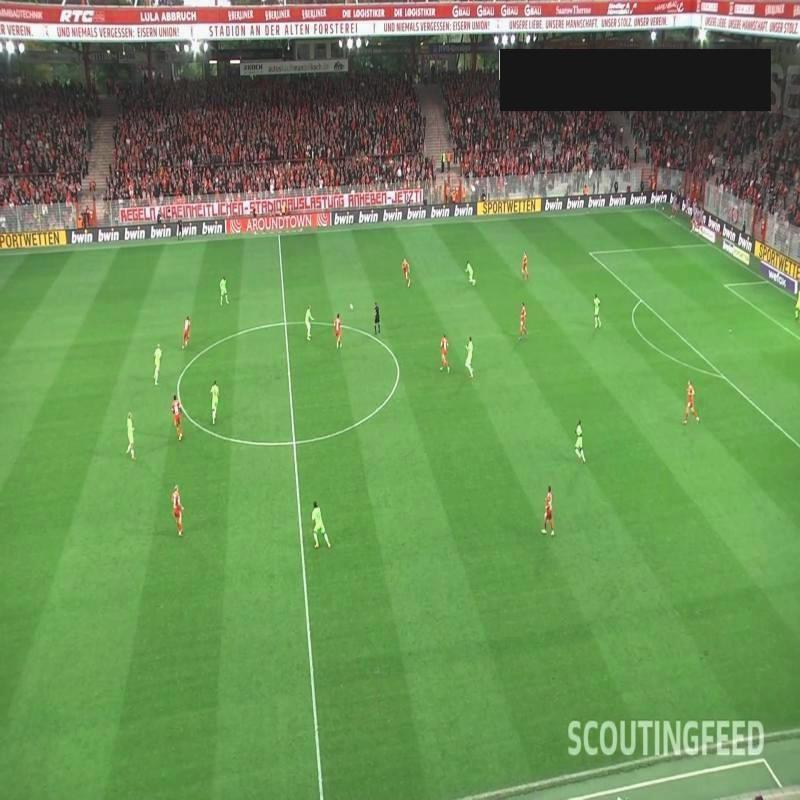1: (648, 204, 662, 217)
10: (634, 290, 649, 310)
11: (716, 368, 732, 388)
13: (272, 226, 286, 240)
14: (278, 316, 292, 330)
15: (287, 434, 301, 450)
2: (704, 237, 718, 251)
3: (761, 275, 775, 289)
7: (718, 279, 732, 293)
9: (582, 244, 598, 262)
c: (389, 357, 407, 375), (172, 382, 186, 395)
